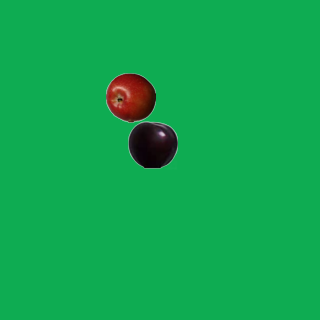Apple Braeburn: (105, 72, 155, 122)
Cherry Wax Black: (127, 119, 177, 169)
